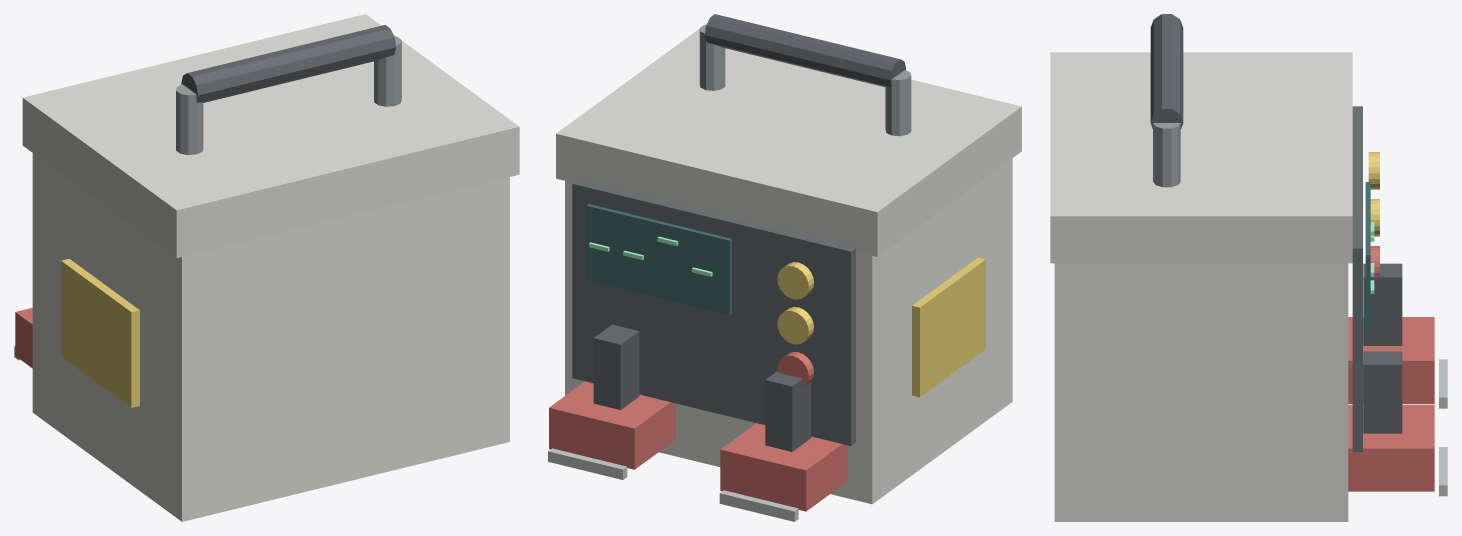
Rendered from defib.fbx.
The picture shows the model from 3 angles, left to right: view 1: azimuth 30°, elevation 25°; view 2: azimuth 150°, elevation 25°; view 3: azimuth 270°, elevation 25°; orthographic projection. The views are drawn at different scales.
Visible parts, largest first — view 1: defib; view 2: defib; view 3: defib.
Part boxes in pixels (bbox=[...]): defib: bbox=[14, 14, 519, 521]; defib: bbox=[548, 14, 1021, 521]; defib: bbox=[1050, 14, 1447, 521].
Bounding box in the file's own units: 0.4545 × 0.4881 × 0.46.
